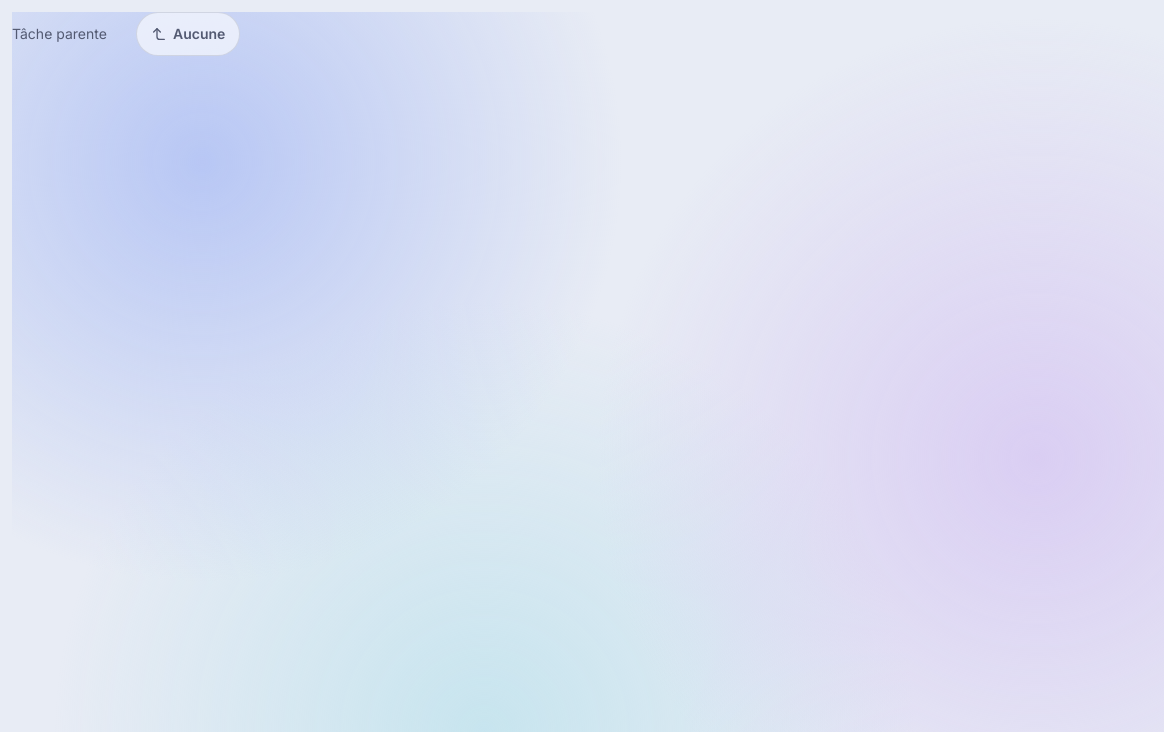
Test: propriété « Tâche parente » › refus parent_in_trash traduit sous le champ
Click the button with aria-label "Tâche parente : Aucune". click: (188, 34)
box: [136,12,240,56]
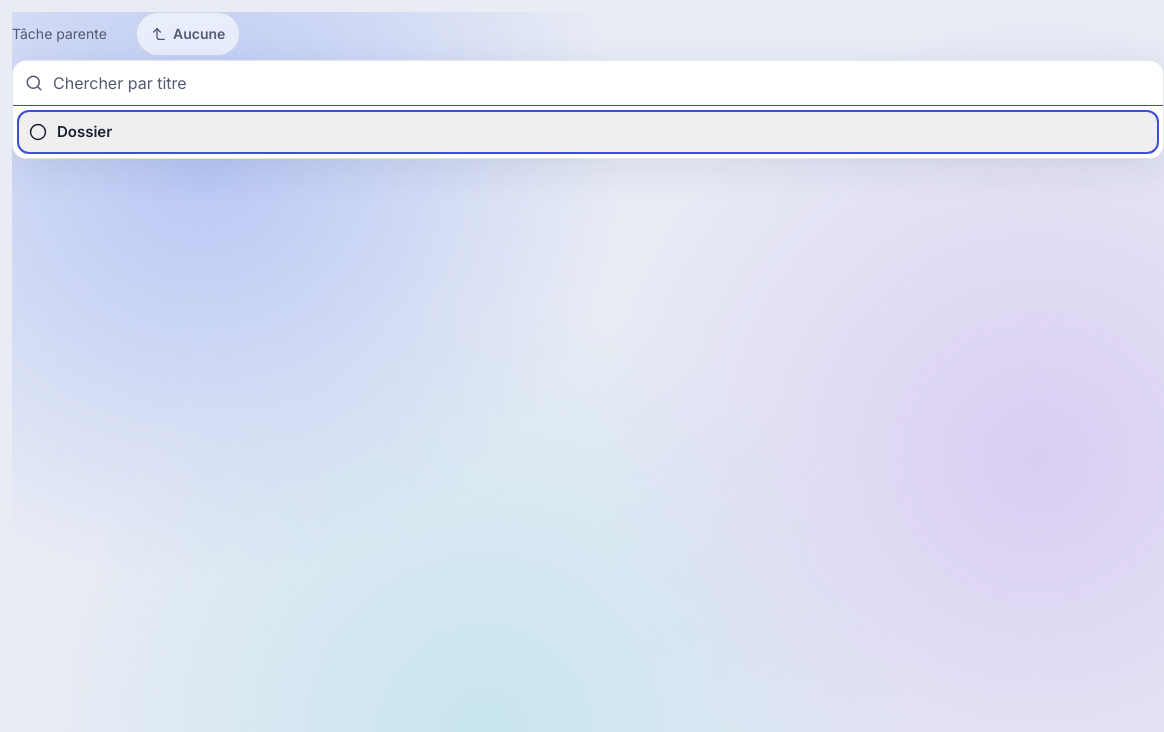
Click the option "Dossier". click: (85, 131)
box: [17,110,1159,154]
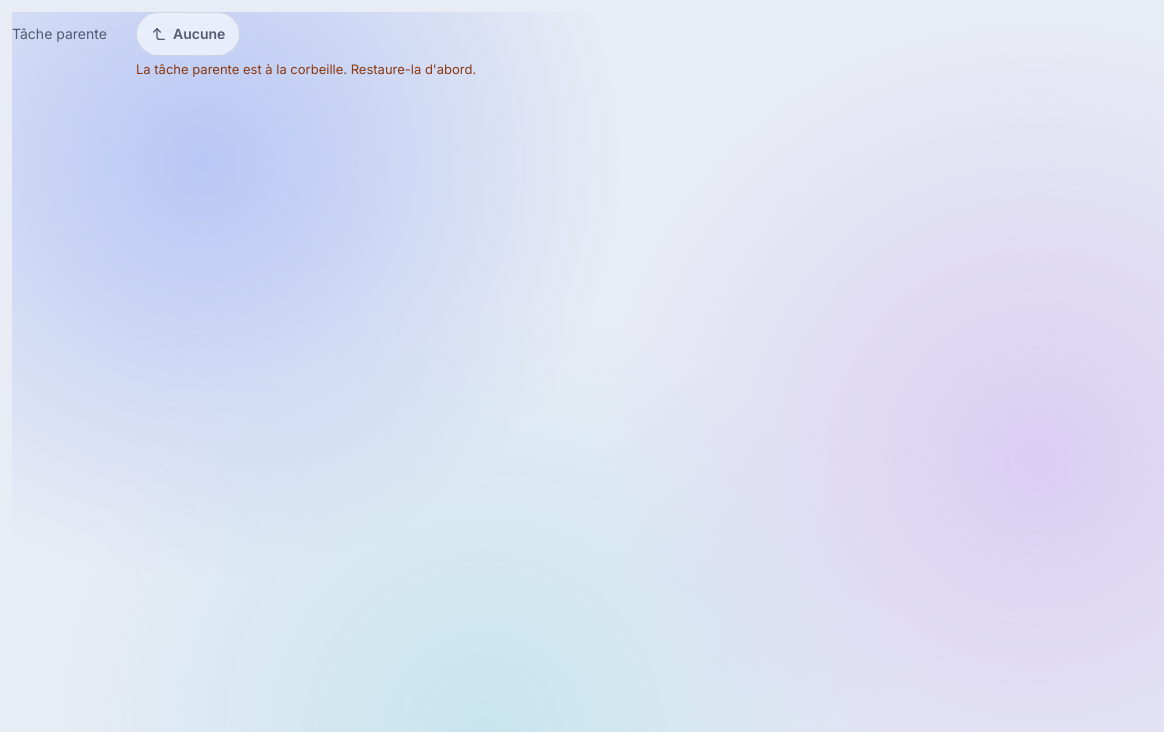
Check: the message reads "La tâche parente est à la corbeille. Restaure-la d'abord.", box [136,61,476,77]
